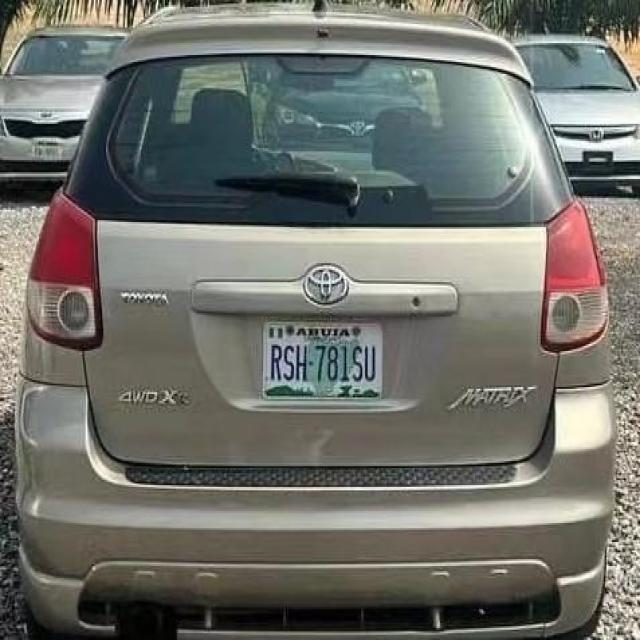Nigerian License Plate - vdataset benjamin-daria: (262, 317, 386, 406)
